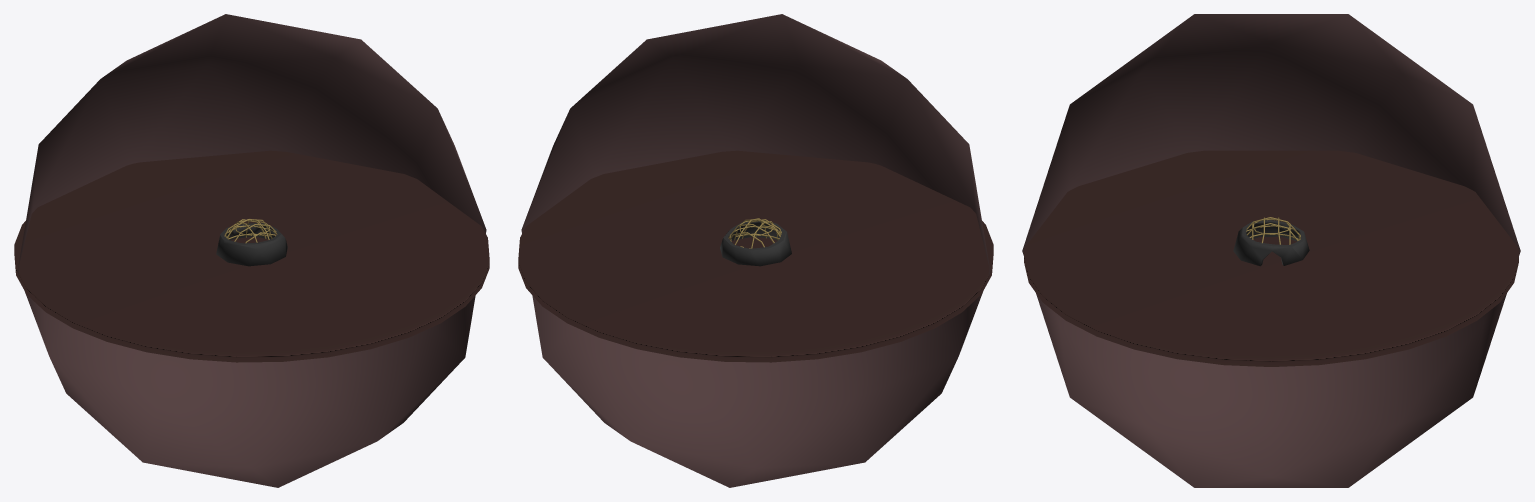
The picture shows the model from 3 angles, left to right: view 1: azimuth 30°, elevation 25°; view 2: azimuth 150°, elevation 25°; view 3: azimuth 270°, elevation 25°; orthographic projection. The views are drawn at different scales.
Visible parts, largest first — view 1: envirosphere.006, ground.008, lodge.006; view 2: envirosphere.006, ground.008, lodge.006; view 3: envirosphere.006, ground.008, lodge.006.
Part boxes in pixels (bbox=[...]): envirosphere.006: bbox=[17, 14, 486, 487]; ground.008: bbox=[14, 150, 489, 362]; lodge.006: bbox=[216, 223, 287, 266]; envirosphere.006: bbox=[521, 14, 990, 487]; ground.008: bbox=[518, 150, 993, 362]; lodge.006: bbox=[720, 220, 791, 266]; envirosphere.006: bbox=[1022, 14, 1520, 487]; ground.008: bbox=[1024, 150, 1518, 366]; lodge.006: bbox=[1233, 220, 1309, 266].
Bounding box in the file's own units: 13.58 × 13.69 × 13.69.
